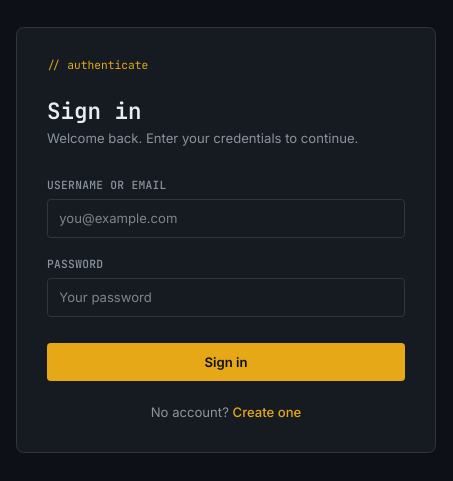
LoginView › shows error for empty username/email field
In the password field labelled "Password": coordinates (226, 297) 47,278 -> 405,317, type "somepassword"
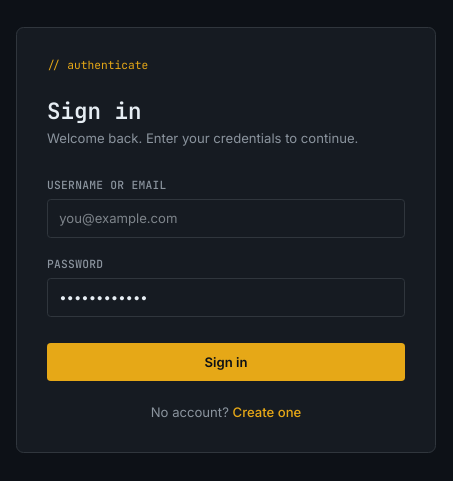
Submit the form, box 47,178 -> 405,381
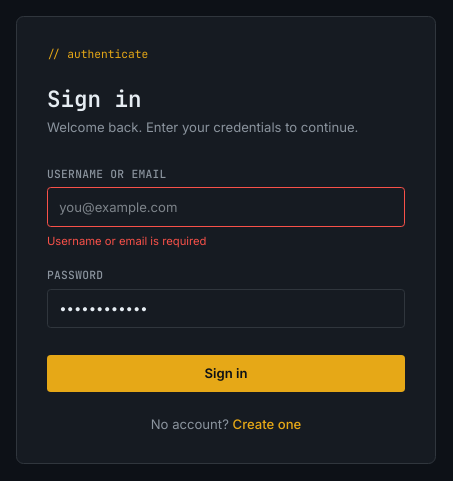
Check: the text "Username or email is required" is shown, box 47,234 -> 206,248
